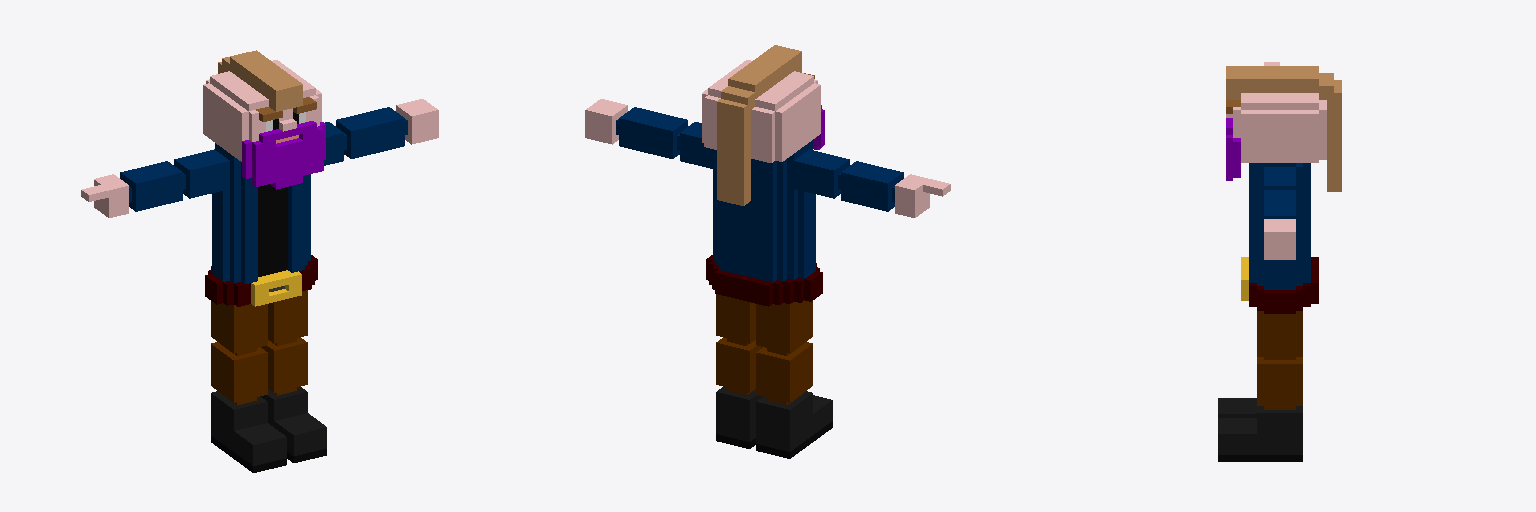
3 renders of one model, left to right at view 1: azimuth 30°, elevation 25°; view 2: azimuth 150°, elevation 25°; view 3: azimuth 270°, elevation 25°, orthographic.
Visible parts, largest first — view 1: object 1; view 2: object 1; view 3: object 1.
Boxes of the visible parts, <box> form: object 1: <box>81,50,438,472</box>; object 1: <box>585,45,950,458</box>; object 1: <box>1218,62,1341,461</box>.
Size of the model in its own units: 5.2 by 5.3 by 1.6.
1 materials, 1 textured.